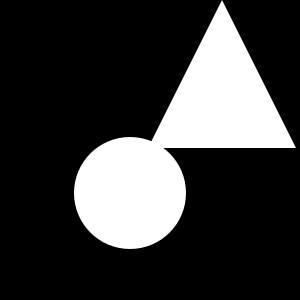rectangle: (74, 137, 186, 249)
triangle: (148, 0, 296, 148), (121, 183, 132, 194)
